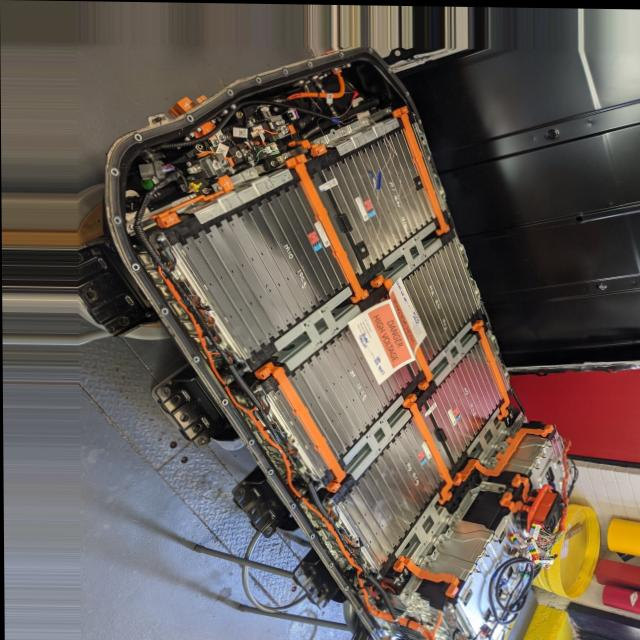Aluminum-frame: (267, 288, 361, 368), (340, 394, 412, 479), (193, 168, 294, 223), (423, 518, 491, 579), (379, 221, 443, 284), (393, 492, 448, 562), (427, 322, 478, 384), (332, 117, 401, 155), (466, 407, 507, 461)
Battery Module: (173, 186, 348, 357), (267, 303, 418, 473), (321, 131, 434, 267), (337, 420, 443, 562), (395, 238, 482, 358), (425, 340, 504, 462)
Bolt: (383, 105, 392, 114), (415, 606, 424, 614), (361, 117, 370, 123), (338, 129, 348, 134), (247, 170, 255, 176), (281, 127, 290, 132), (276, 119, 287, 123), (215, 185, 222, 191), (222, 158, 230, 163), (317, 139, 325, 143), (215, 162, 221, 167), (236, 151, 242, 155), (221, 135, 226, 139), (216, 139, 219, 143)
Bus-bar: (288, 153, 369, 303), (258, 361, 345, 490), (394, 105, 450, 235), (454, 424, 555, 484), (404, 393, 452, 503), (148, 174, 235, 226), (288, 139, 328, 156), (498, 490, 523, 513), (510, 477, 531, 500)
Cable: (161, 264, 413, 626), (487, 557, 538, 623)
Nut: (154, 234, 164, 242), (253, 385, 261, 393), (203, 187, 211, 194), (271, 159, 280, 165), (400, 590, 409, 595), (196, 144, 203, 150), (237, 112, 244, 117)
